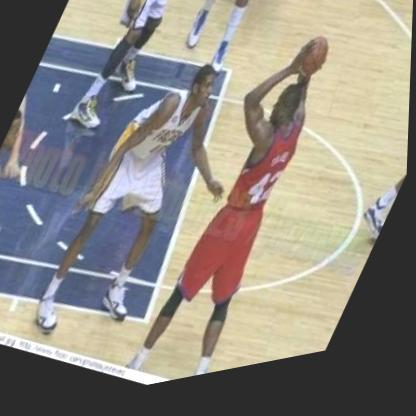basketball: (290, 35, 341, 99)
